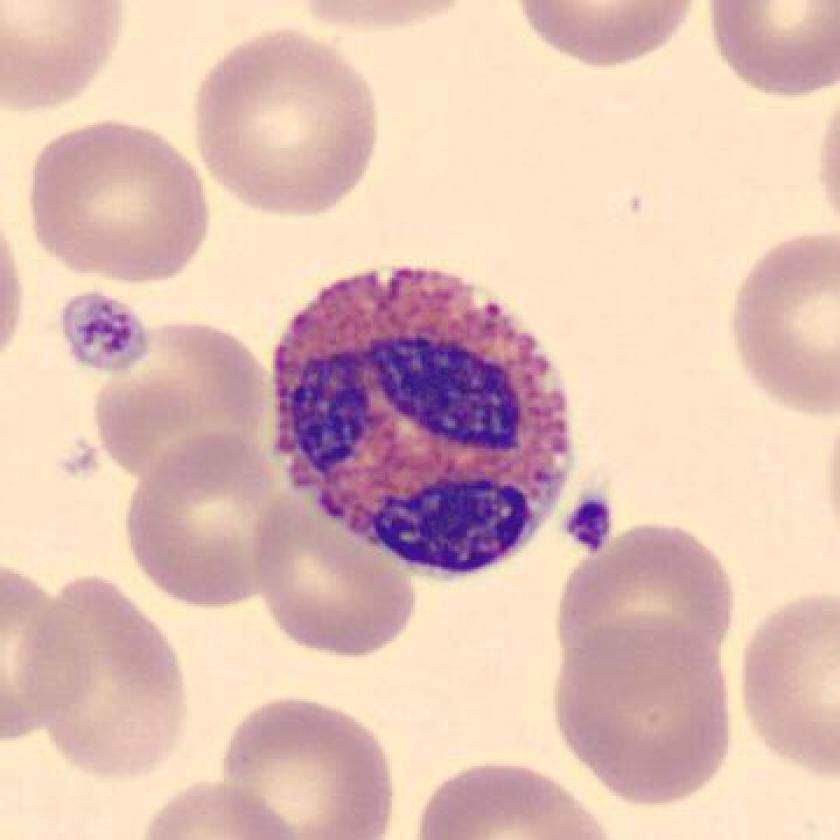eosinophil: (263, 253, 585, 584)
